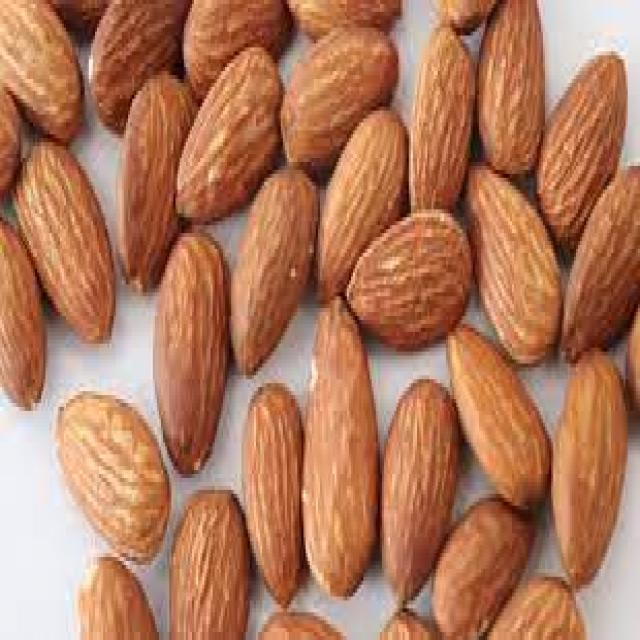almond: (302, 299, 382, 604), (50, 384, 172, 569), (447, 320, 558, 513), (13, 137, 117, 340), (462, 162, 565, 365), (173, 47, 285, 225), (115, 72, 200, 302), (150, 230, 228, 478), (228, 167, 317, 377), (310, 108, 405, 300), (537, 50, 630, 245), (547, 352, 622, 592), (347, 207, 472, 350), (277, 25, 400, 170), (380, 377, 457, 598), (563, 169, 640, 366), (434, 493, 534, 637), (410, 17, 482, 212), (242, 378, 303, 607), (84, 0, 186, 131), (473, 0, 545, 175), (170, 486, 251, 640), (0, 0, 85, 140), (182, 0, 292, 95), (0, 218, 46, 413), (70, 553, 155, 640), (487, 575, 583, 640)
